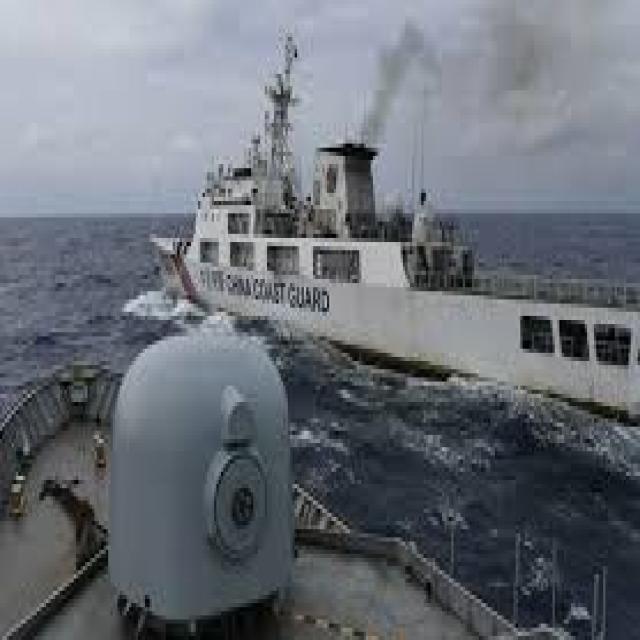navalvessels: (156, 41, 640, 385)
